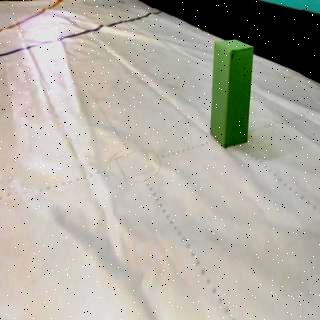greenbox: (212, 38, 254, 146)
